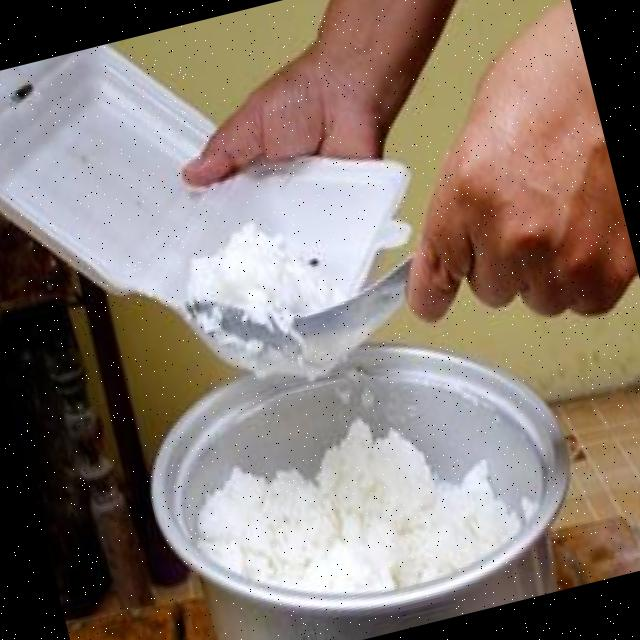styrofoam: (0, 0, 453, 446)
